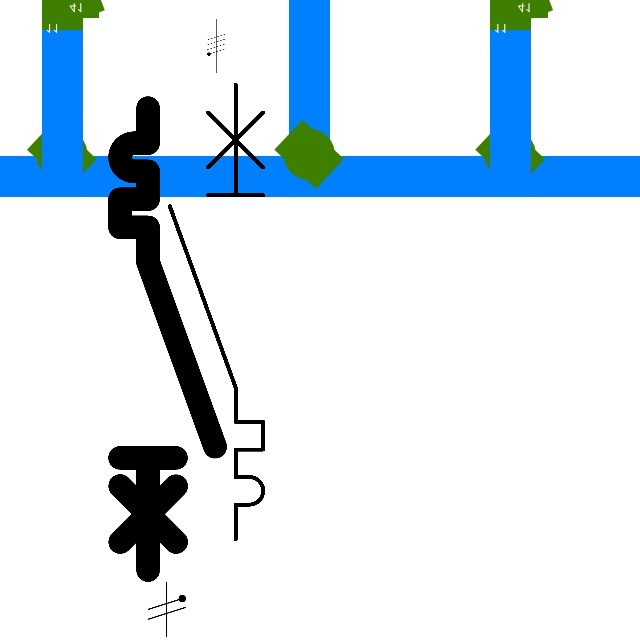interruptor_termomagnetico: (108, 96, 227, 582), (158, 73, 275, 551)
